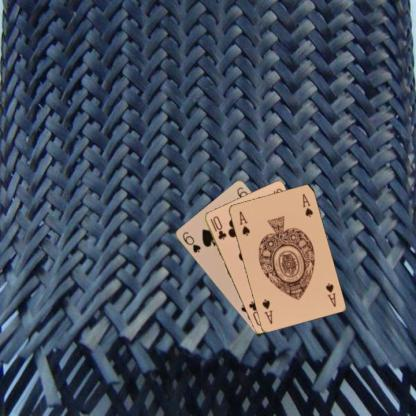10c: (207, 213, 228, 241)
6s: (180, 229, 202, 254)
As: (236, 208, 251, 237), (323, 280, 337, 308)
